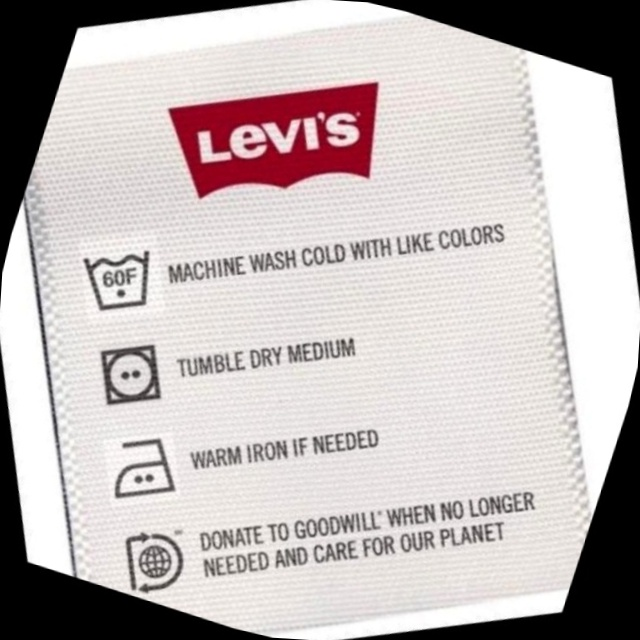30C: (70, 227, 168, 327)
iron_medium: (97, 419, 196, 518)
tumble_dry_medium: (85, 326, 182, 422)
